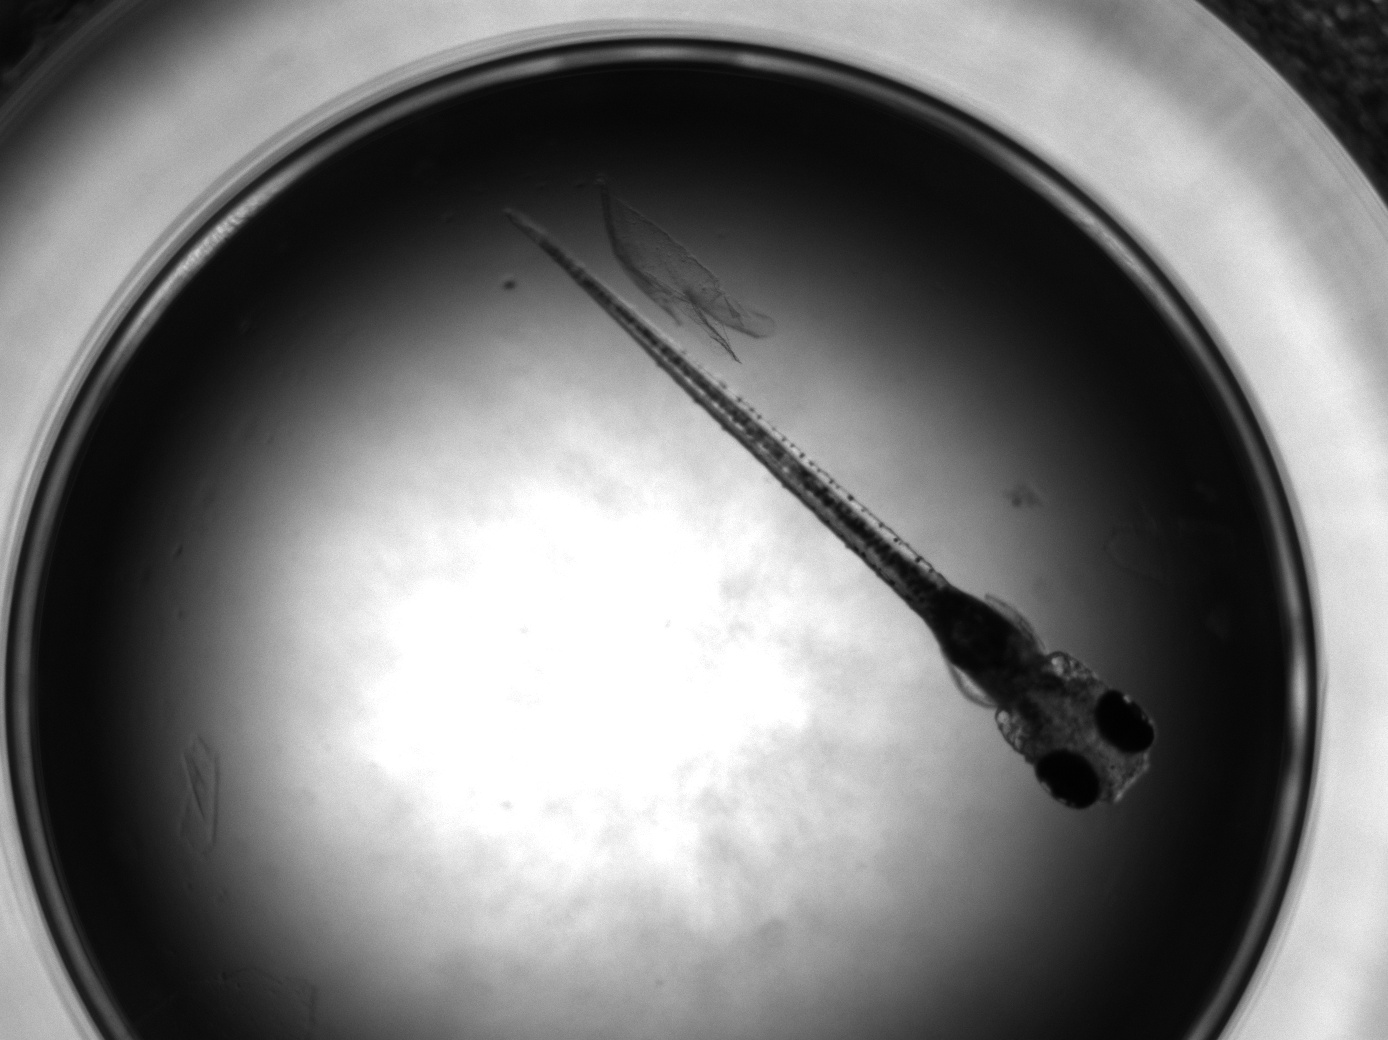debris: (598, 181, 778, 364)
embryo: (505, 206, 1160, 814)
eye: (1091, 688, 1156, 756), (1035, 751, 1103, 811)
yolksac: (914, 582, 1032, 690)
